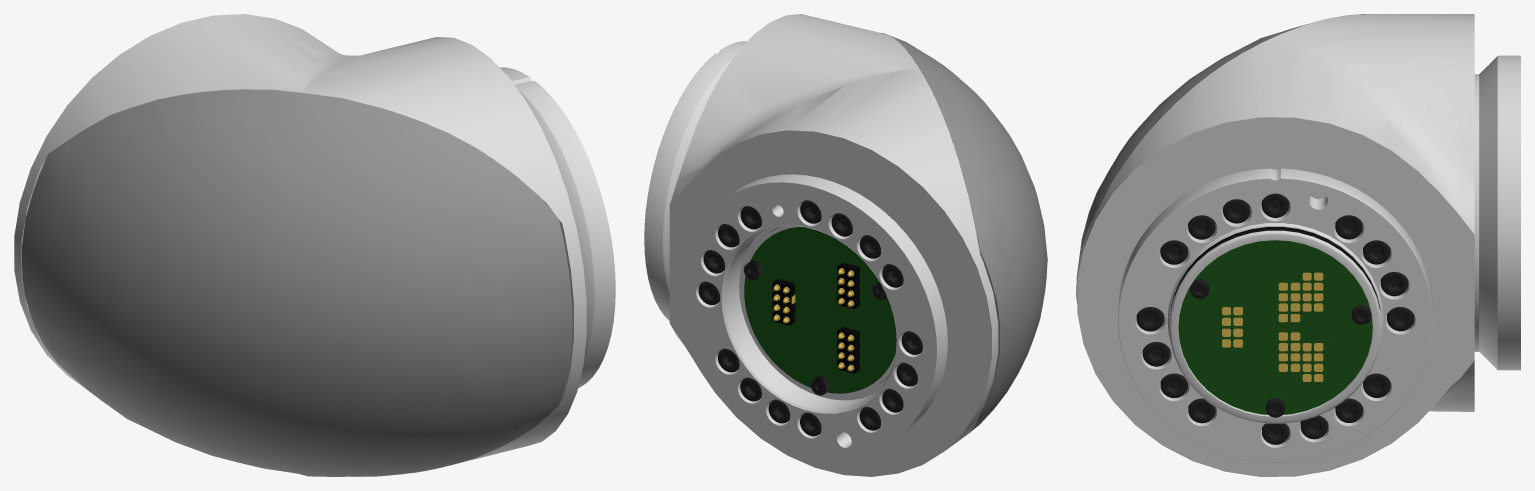
3 views of the same model, side by side, from view 1: azimuth 30°, elevation 25°; view 2: azimuth 150°, elevation 25°; view 3: azimuth 270°, elevation 25° (orthographic). The views are drawn at different scales.
Parts seen in each view (by area): view 1: L86-55.001; view 2: L86-55.001; view 3: L86-55.001.
Part boxes in pixels (box(x1,y1,x2,y2)): L86-55.001: box(14, 14, 615, 476); L86-55.001: box(644, 14, 1047, 476); L86-55.001: box(1076, 14, 1520, 476).
Size of the model in its own units: 0.1029 by 0.0862 by 0.0961.
